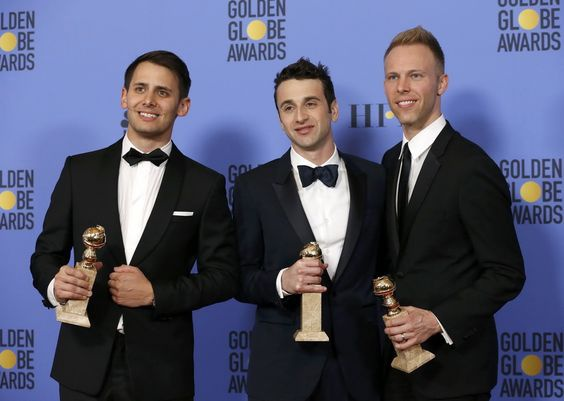hand: (277, 259, 326, 290)
